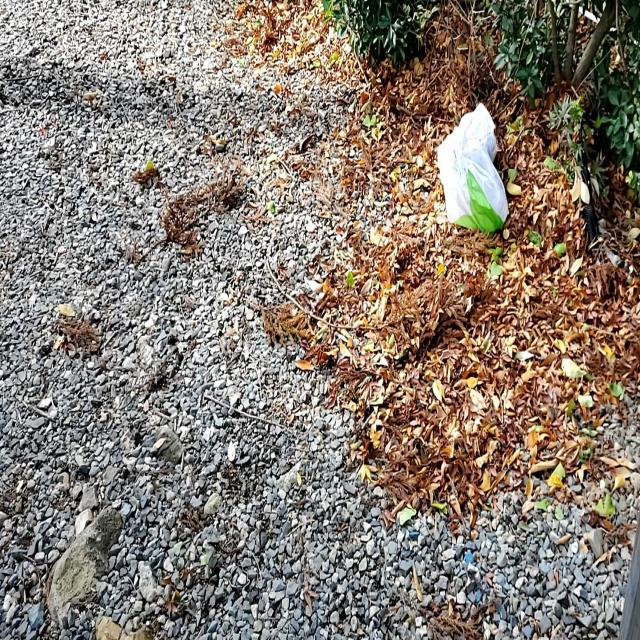garbage bag: (435, 100, 510, 234)
